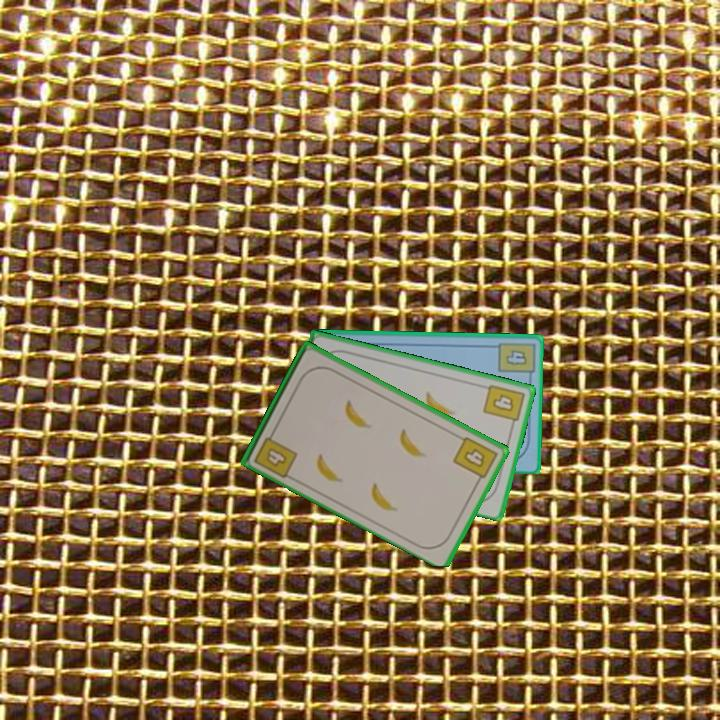4b: (250, 426, 300, 481), (449, 433, 500, 486), (480, 380, 527, 431), (494, 339, 536, 383)
